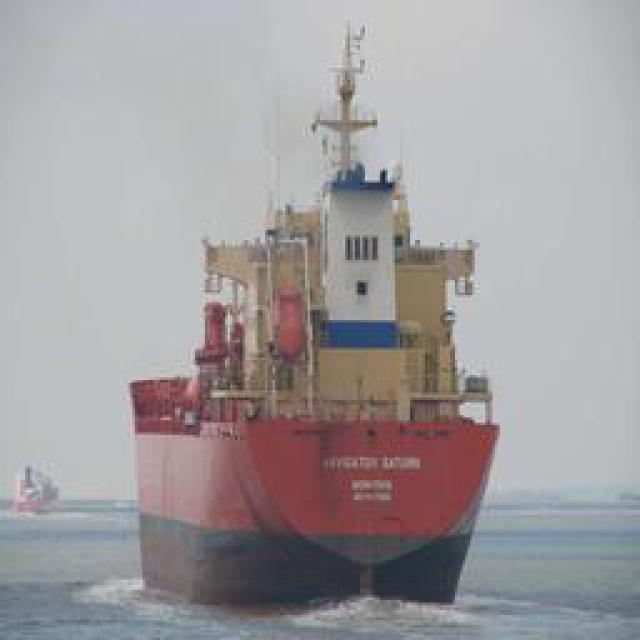Ship: (150, 170, 498, 608)
